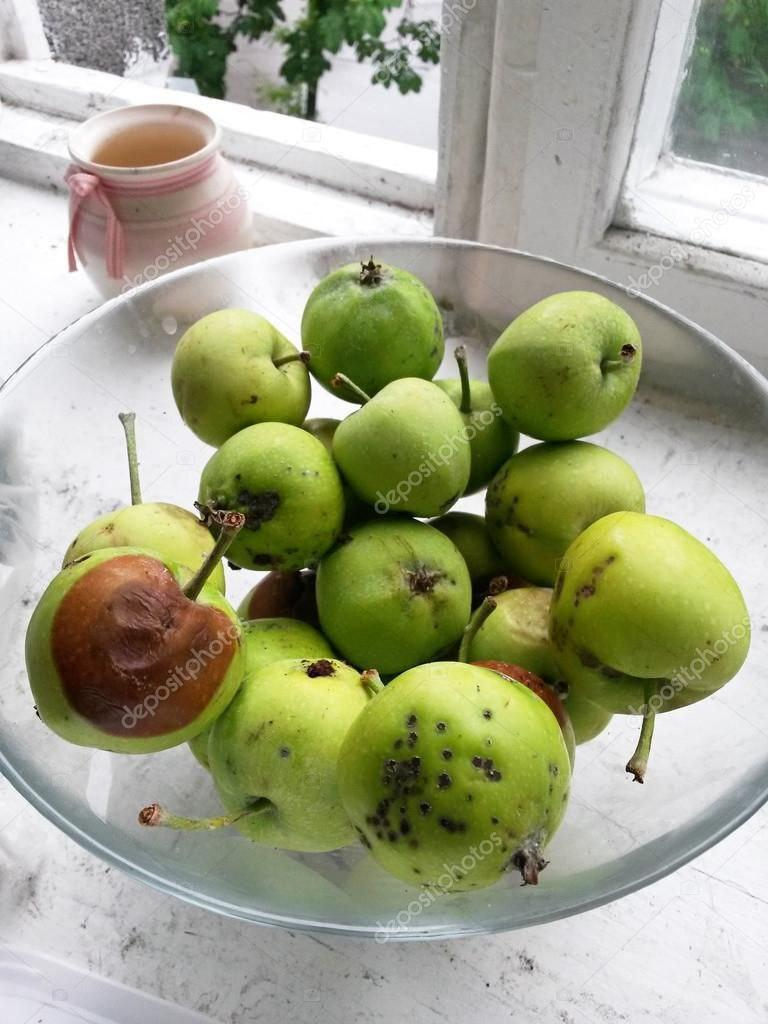Apple: (336, 660, 574, 882), (25, 542, 246, 756), (548, 508, 756, 718)
